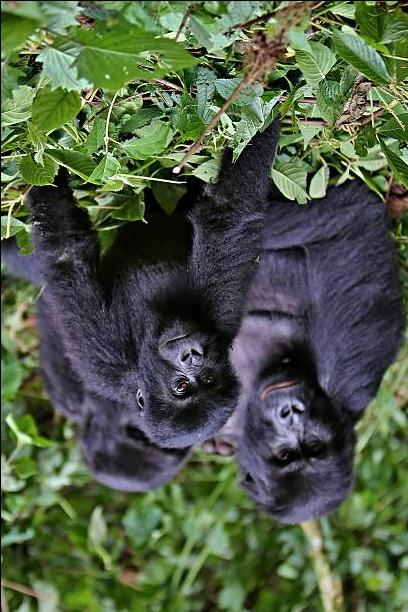goriile_montagne: (2, 169, 246, 456), (232, 144, 386, 545)
